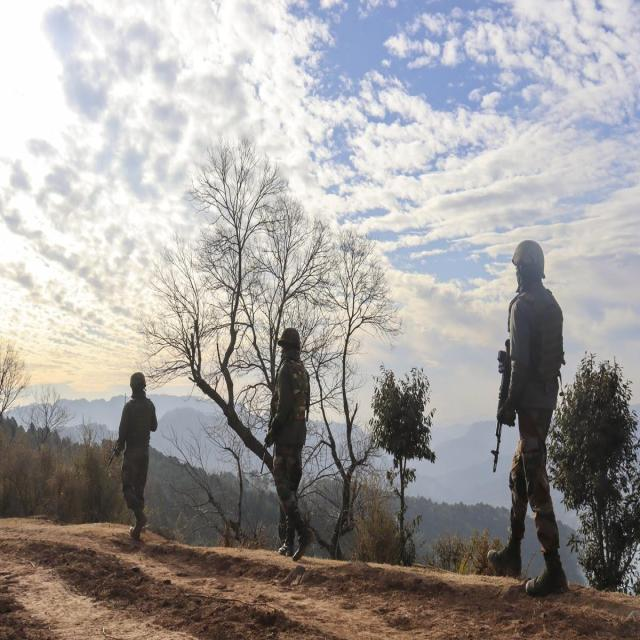Forest: (0, 0, 640, 640)
Militant: (481, 226, 587, 608), (243, 319, 328, 566), (106, 357, 169, 553)
